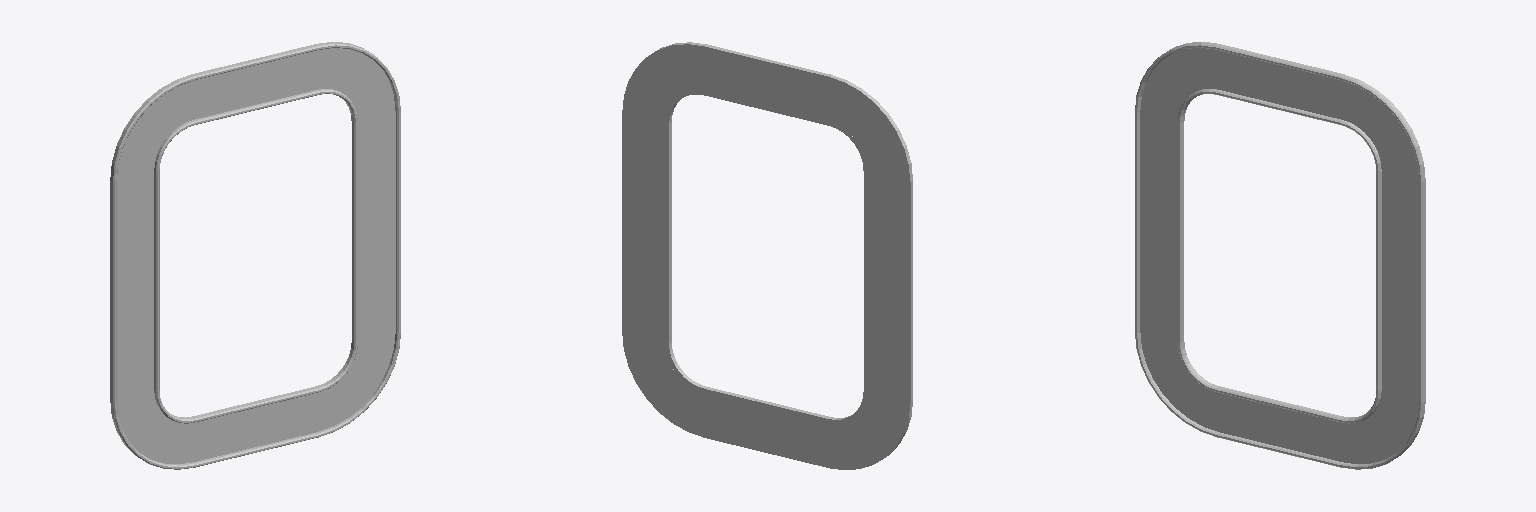
The model's file is Track.obj.
3 views of the same model, side by side, from view 1: azimuth 30°, elevation 25°; view 2: azimuth 150°, elevation 25°; view 3: azimuth 330°, elevation 25° (orthographic).
Visible parts, largest first — view 1: object17, object22, object23, object20, object19, object18, object24, object21, object11, object1, object12, object2 (+8 smaller); view 2: object17, object22, object23, object20, object19, object21, object18, object24, object1, object11, object9, object2 (+5 smaller); view 3: object22, object17, object23, object20, object21, object18, object24, object19, object2, object1, object12, object11 (+8 smaller).
Boxes of the visible parts, box(x1,y1,x2,y2) form: object17: box(358, 112, 395, 341); object22: box(117, 170, 153, 398); object23: box(190, 393, 317, 462); object20: box(193, 50, 317, 119); object19: box(318, 48, 395, 120); object18: box(318, 333, 395, 431); object24: box(117, 390, 189, 463); object21: box(117, 81, 192, 178); object11: box(110, 180, 116, 401); object1: box(352, 122, 357, 343); object12: box(154, 170, 159, 391); object2: box(396, 112, 400, 333); object17: box(626, 113, 664, 343); object22: box(868, 172, 906, 400); object23: box(703, 393, 831, 464); object20: box(704, 50, 828, 121); object19: box(626, 48, 703, 122); object21: box(828, 81, 905, 180); object18: box(626, 333, 703, 432); object24: box(832, 392, 906, 465); object1: box(665, 122, 671, 343); object11: box(907, 181, 912, 401); object9: box(829, 75, 912, 181); object2: box(622, 112, 625, 333); object22: box(1140, 111, 1177, 339); object17: box(1382, 171, 1418, 399); object23: box(1215, 392, 1342, 461); object20: box(1218, 50, 1342, 119); object21: box(1140, 48, 1217, 119); object18: box(1343, 392, 1418, 463); object24: box(1140, 331, 1214, 430); object19: box(1343, 81, 1418, 178); object2: box(1419, 180, 1425, 402); object1: box(1376, 170, 1381, 392); object12: box(1178, 122, 1183, 342); object11: box(1135, 112, 1139, 332).
Bounding box in the file's own units: 3.15 × 4.08 × 0.064.